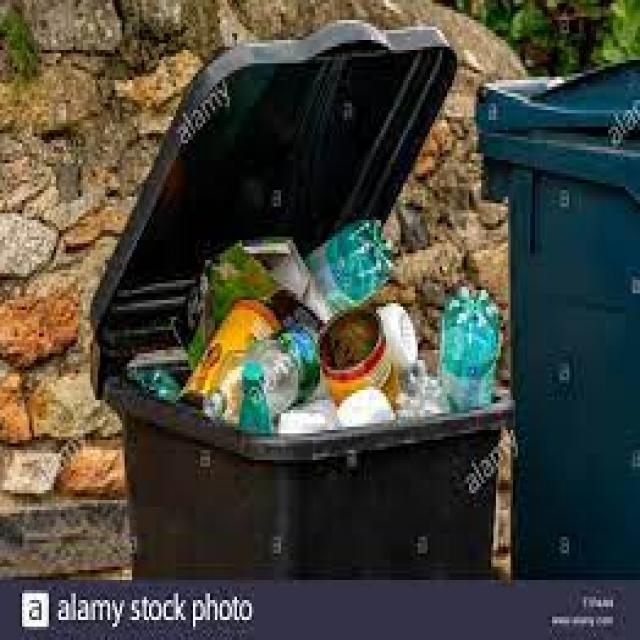garbage: (161, 216, 496, 416)
